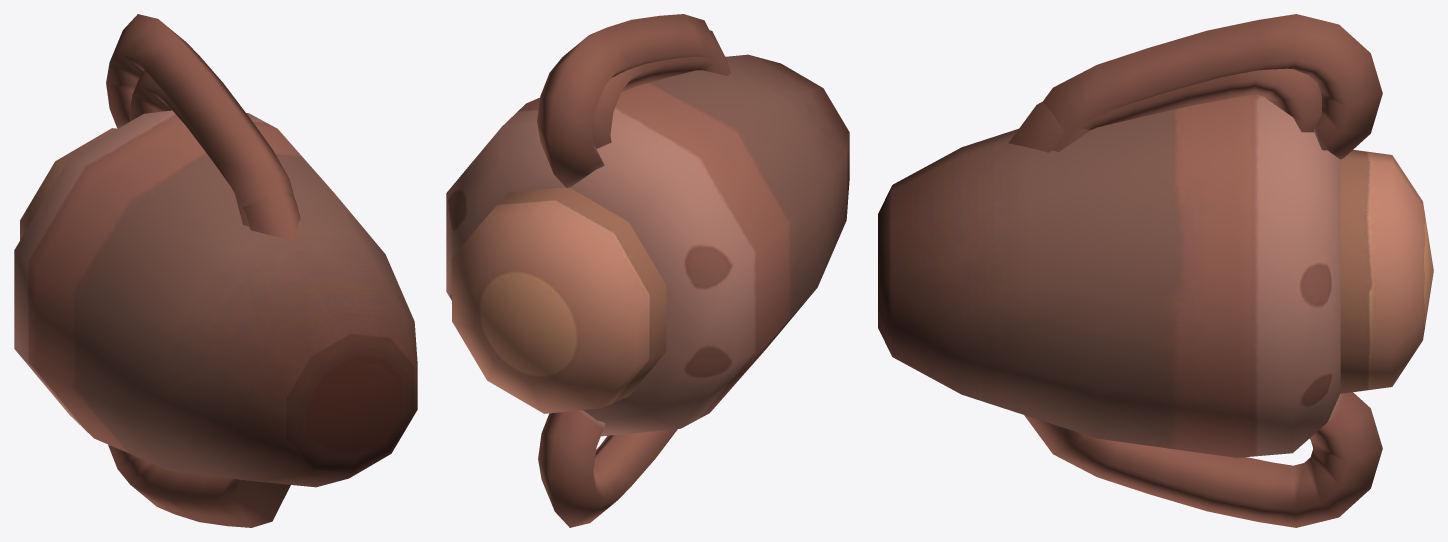
Rendered from Pottery_04 (2).fbx.
The picture shows the model from 3 angles, left to right: view 1: azimuth 30°, elevation 25°; view 2: azimuth 150°, elevation 25°; view 3: azimuth 270°, elevation 25°; orthographic projection. The views are drawn at different scales.
Parts seen in each view (by area): view 1: Pottery_04_Solid, Pottery_Shattered_01, Pottery_Shattered_04; view 2: Pottery_04_Solid, Pottery_Shattered_01; view 3: Pottery_04_Solid, Pottery_Shattered_01.
Part boxes in pixels (x1,y1,x2,y2): Pottery_04_Solid: (14,14,417,527); Pottery_Shattered_01: (129,70,300,240); Pottery_Shattered_04: (317,363,397,453); Pottery_04_Solid: (446,14,849,527); Pottery_Shattered_01: (592,30,731,148); Pottery_04_Solid: (878,14,1433,527); Pottery_Shattered_01: (1008,68,1321,152).
Size of the model in its own units: 149 by 234 by 229.
